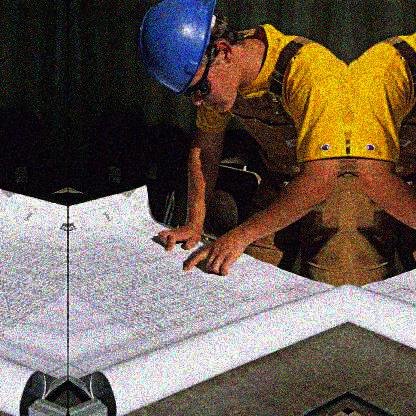helmet: (139, 1, 240, 115)
